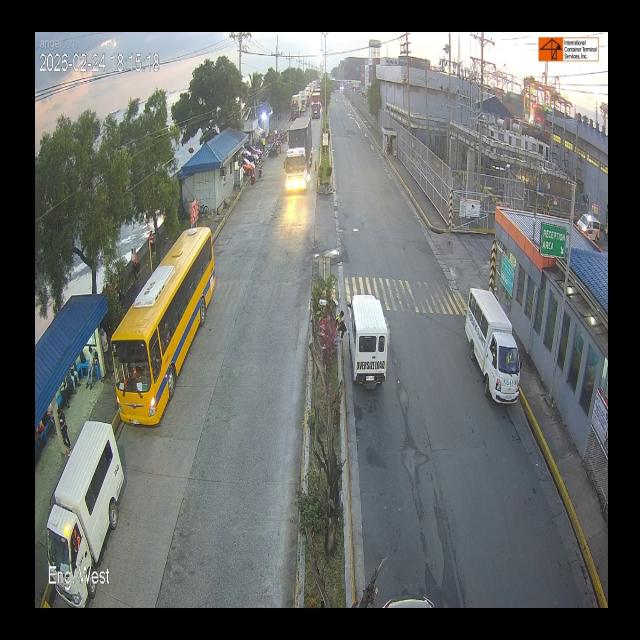bus: (110, 238, 228, 428)
car: (44, 428, 121, 572), (465, 302, 521, 412), (349, 291, 392, 389)
truck: (284, 110, 318, 198), (309, 91, 323, 121), (289, 92, 301, 122)
